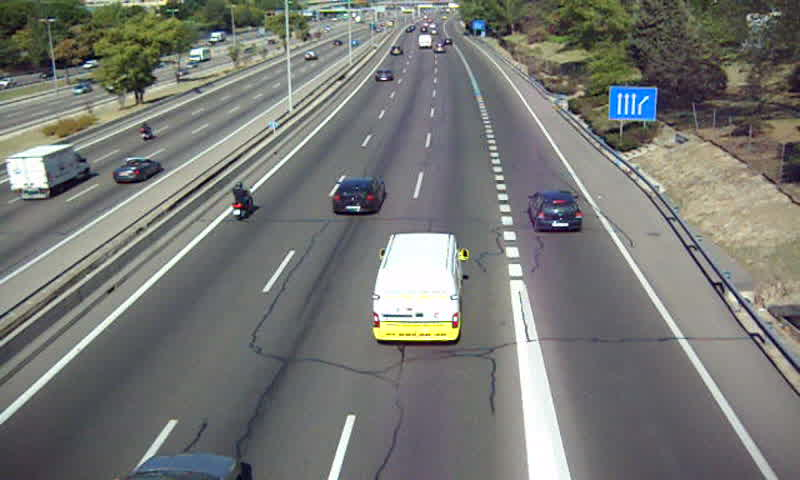car: (525, 190, 583, 233), (333, 175, 387, 217), (374, 67, 395, 84)
motorcycle: (229, 181, 254, 222)
van: (373, 233, 464, 342)
